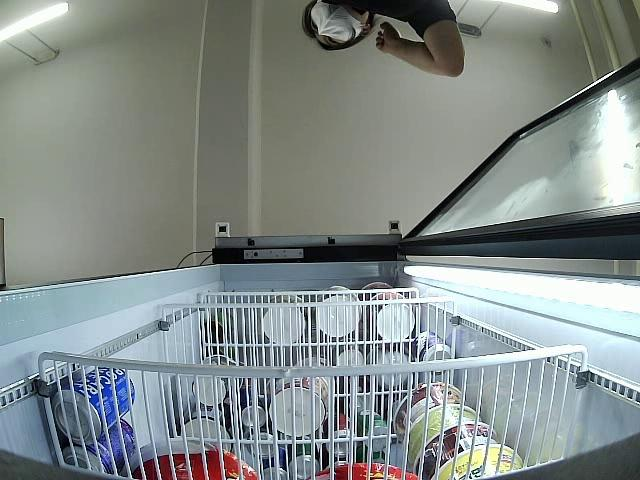00_hand: (375, 22, 402, 56)
